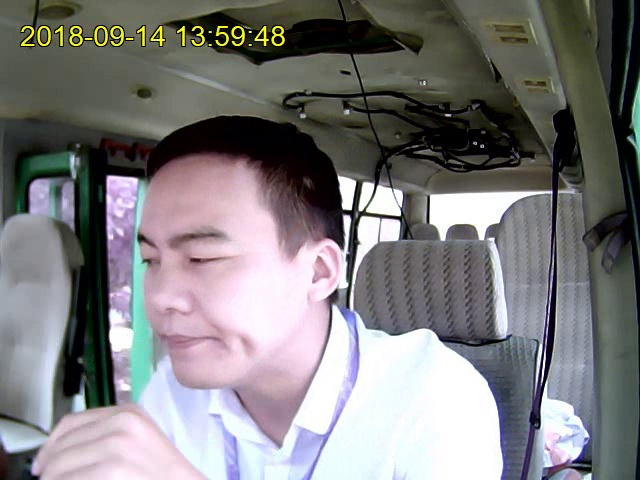closed_mouth: (157, 330, 225, 353)
